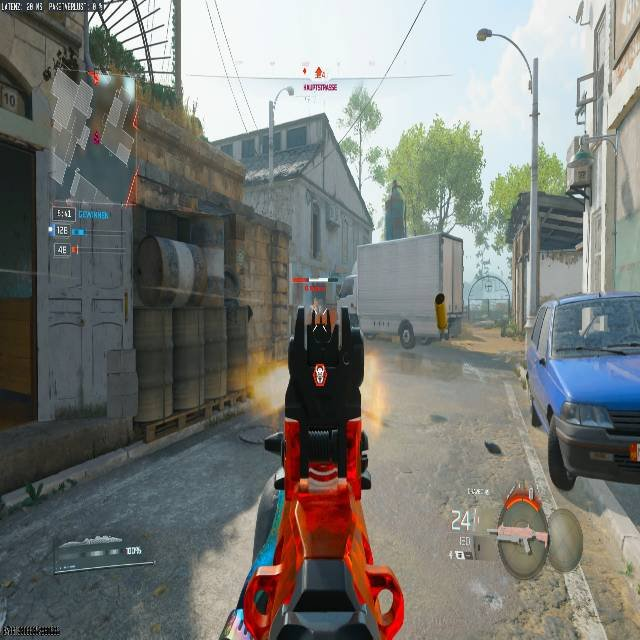player: (395, 318, 414, 350)
